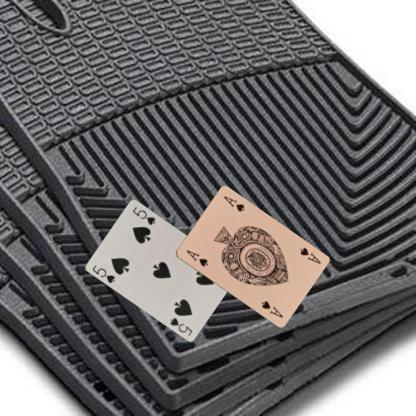5s: (90, 262, 116, 284)
As: (184, 247, 209, 268), (297, 245, 322, 265)
